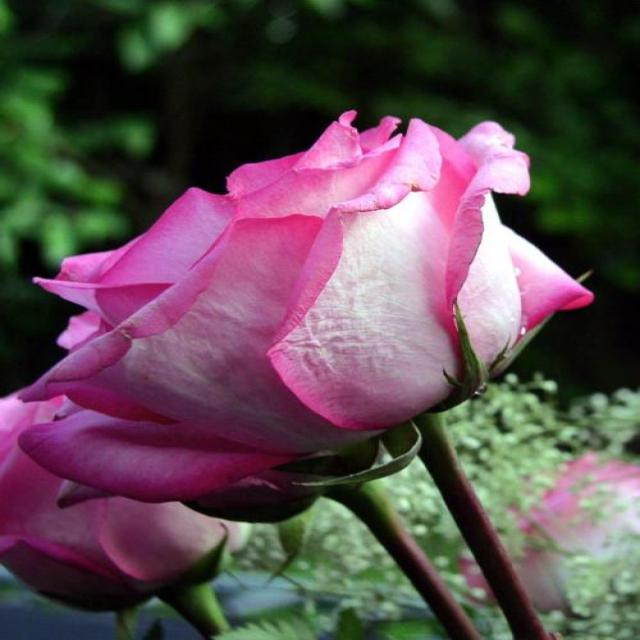rose: (0, 55, 596, 630)
